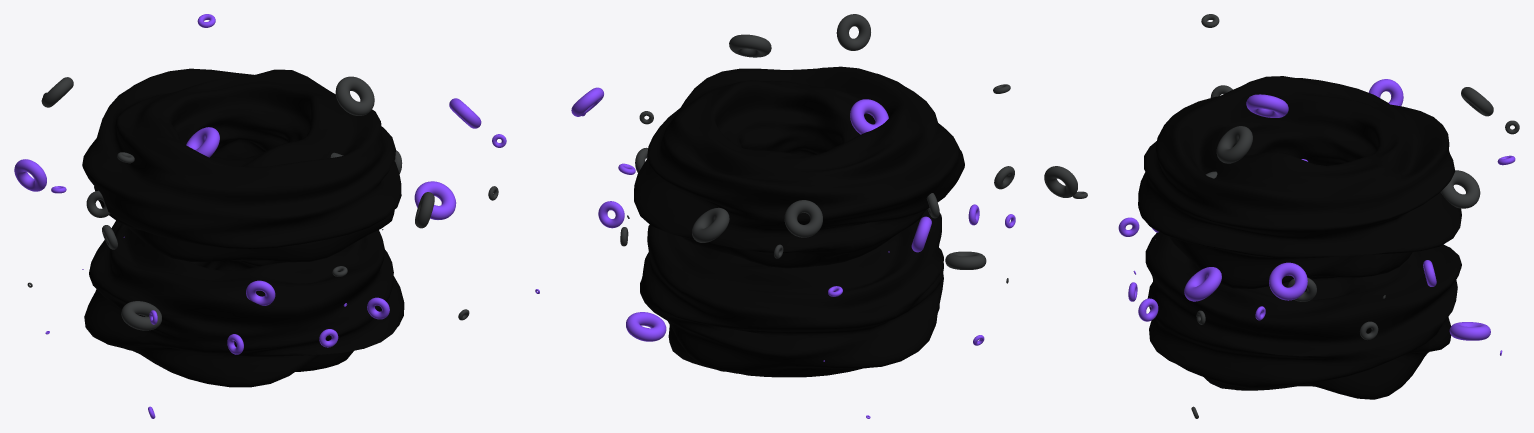
File: 3DUniversMysterieux.fbx
3 views of the same model, side by side, from view 1: azimuth 30°, elevation 25°; view 2: azimuth 150°, elevation 25°; view 3: azimuth 270°, elevation 25° (orthographic).
Visible parts, largest first — view 1: Haut, Bas2, Torus_27, Torus_17_2, Torus_22, Torus_23_2, Torus_27_2, Torus_24_2, Torus_20, Torus_20_2, Torus_23; view 2: Haut, Bas2, Torus_20, Torus_17, Torus_22_2, Torus_23, Torus_27_2, Torus_27, Torus_22, Torus_20_2, Torus_21_2, Torus_23_2; view 3: Haut, Bas2, Torus_20_2, Torus_27, Torus_17, Torus_17_2, Torus_23, Torus_27_2, Torus_22_2, Torus_23_2, Torus_20.
Part boxes in pixels (left/top/right/bottom): Haut: left=82, top=68, right=401, bottom=262; Bas2: left=84, top=220, right=404, bottom=387; Torus_27: left=335, top=76, right=374, bottom=115; Torus_17_2: left=414, top=181, right=456, bottom=219; Torus_22: left=121, top=301, right=161, bottom=330; Torus_23_2: left=14, top=159, right=46, bottom=191; Torus_27_2: left=186, top=127, right=219, bottom=157; Torus_24_2: left=246, top=280, right=275, bottom=305; Torus_20: left=41, top=77, right=73, bottom=107; Torus_20_2: left=449, top=98, right=481, bottom=128; Torus_23: left=415, top=192, right=434, bottom=228; Haut: left=634, top=66, right=964, bottom=268; Bas2: left=640, top=209, right=943, bottom=377; Torus_20: left=784, top=200, right=822, bottom=237; Torus_17: left=692, top=207, right=729, bottom=242; Torus_22_2: left=626, top=312, right=666, bottom=341; Torus_23: left=836, top=14, right=870, bottom=50; Torus_27_2: left=850, top=99, right=888, bottom=134; Torus_27: left=729, top=34, right=771, bottom=57; Torus_22: left=945, top=251, right=986, bottom=269; Torus_20_2: left=571, top=87, right=603, bottom=116; Torus_21_2: left=598, top=201, right=624, bottom=228; Torus_23_2: left=911, top=216, right=931, bottom=252; Haut: left=1138, top=76, right=1461, bottom=288; Bas2: left=1145, top=232, right=1461, bottom=399; Torus_20_2: left=1269, top=262, right=1307, bottom=300; Torus_27: left=1216, top=126, right=1252, bottom=163; Torus_17: left=1440, top=170, right=1480, bottom=208; Torus_17_2: left=1184, top=267, right=1221, bottom=301; Torus_23: left=1044, top=166, right=1077, bottom=197; Torus_27_2: left=1246, top=94, right=1288, bottom=117; Torus_22_2: left=1449, top=322, right=1490, bottom=340; Torus_23_2: left=1368, top=79, right=1403, bottom=106; Torus_20: left=1461, top=87, right=1493, bottom=116.
Bounding box in the file's own units: 68.14 × 39.15 × 61.67.
